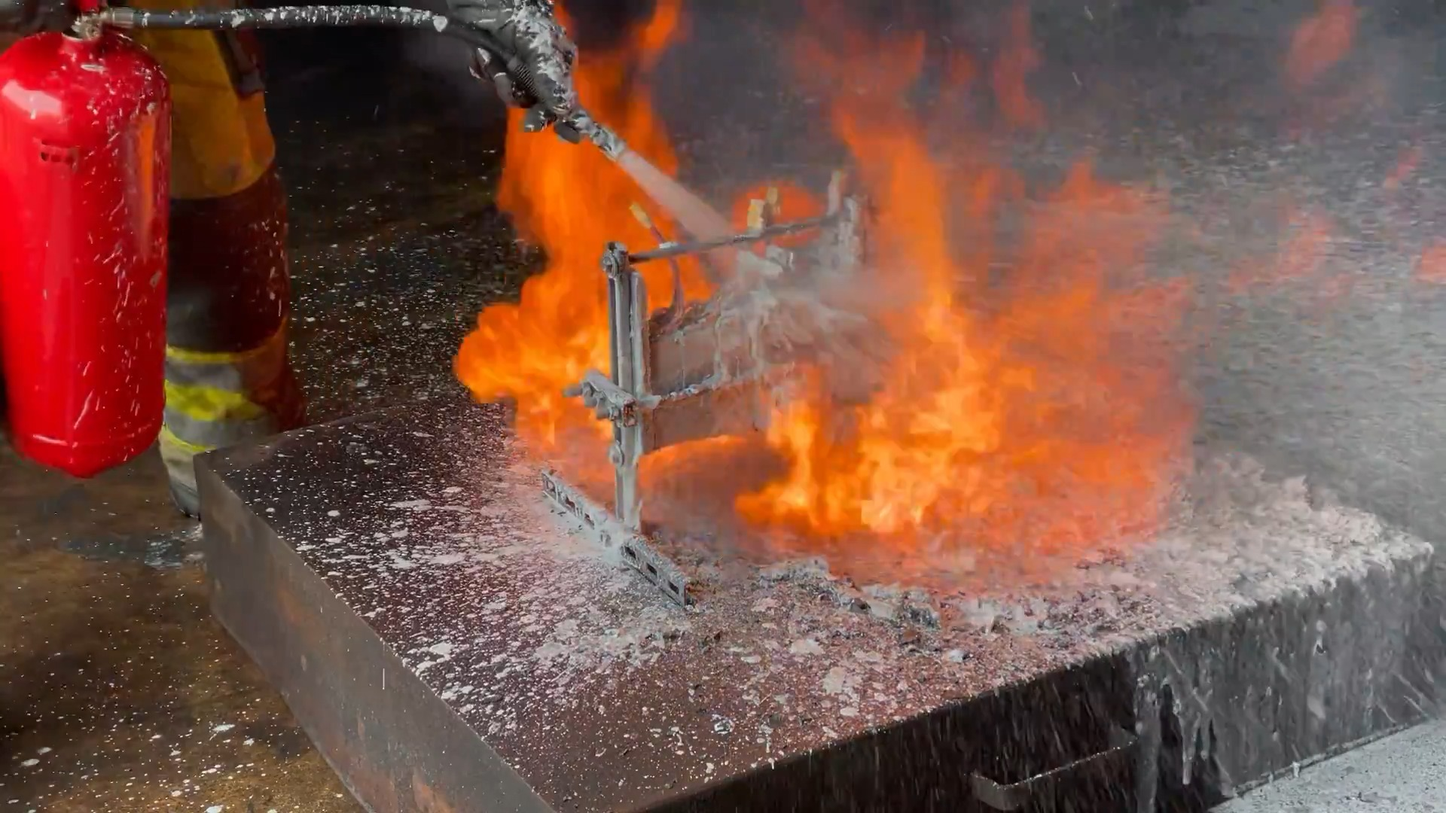fire: (448, 0, 1240, 581)
smoke: (711, 0, 1445, 239)
